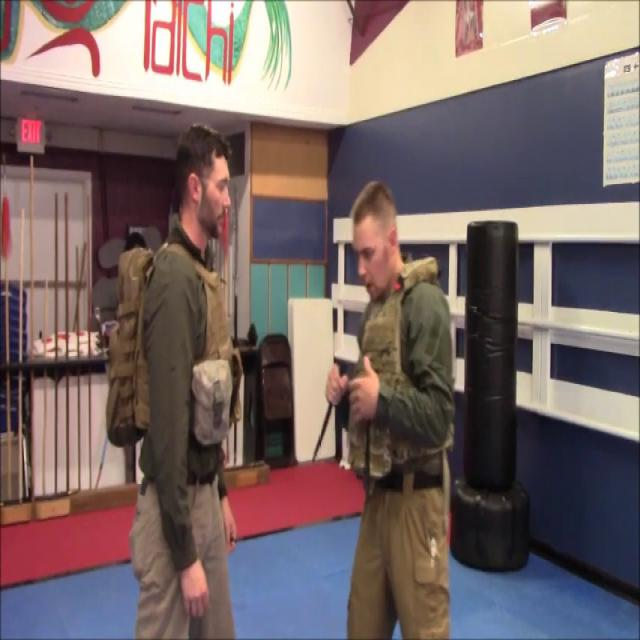knife: (300, 349, 353, 457)
